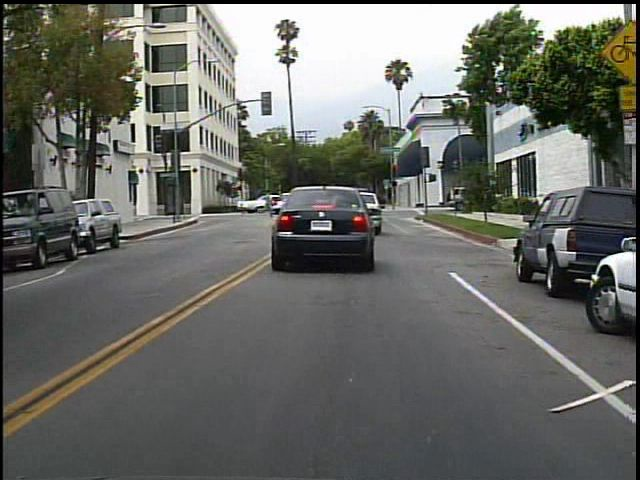person: (257, 189, 280, 222)
